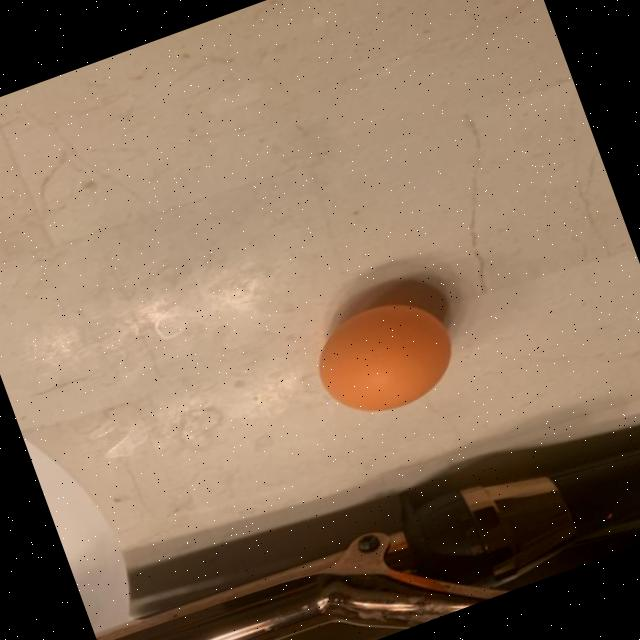ping-pong-ball: (294, 276, 476, 437)
